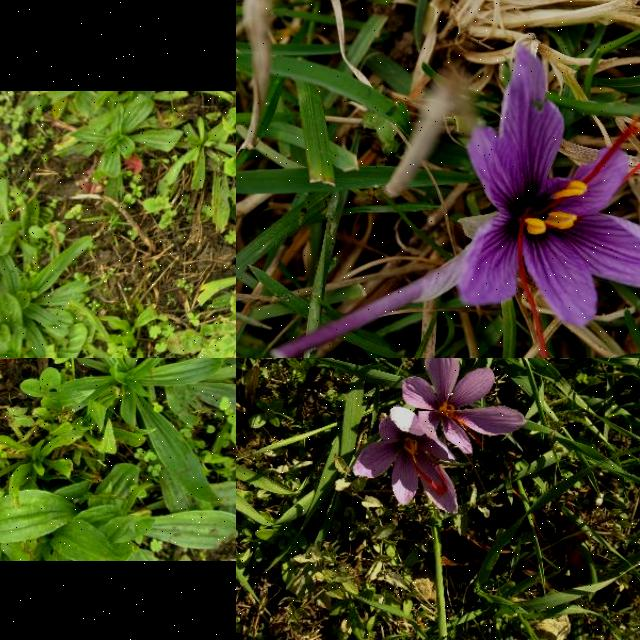flower: (458, 46, 640, 358), (402, 358, 525, 454), (354, 417, 458, 515)
